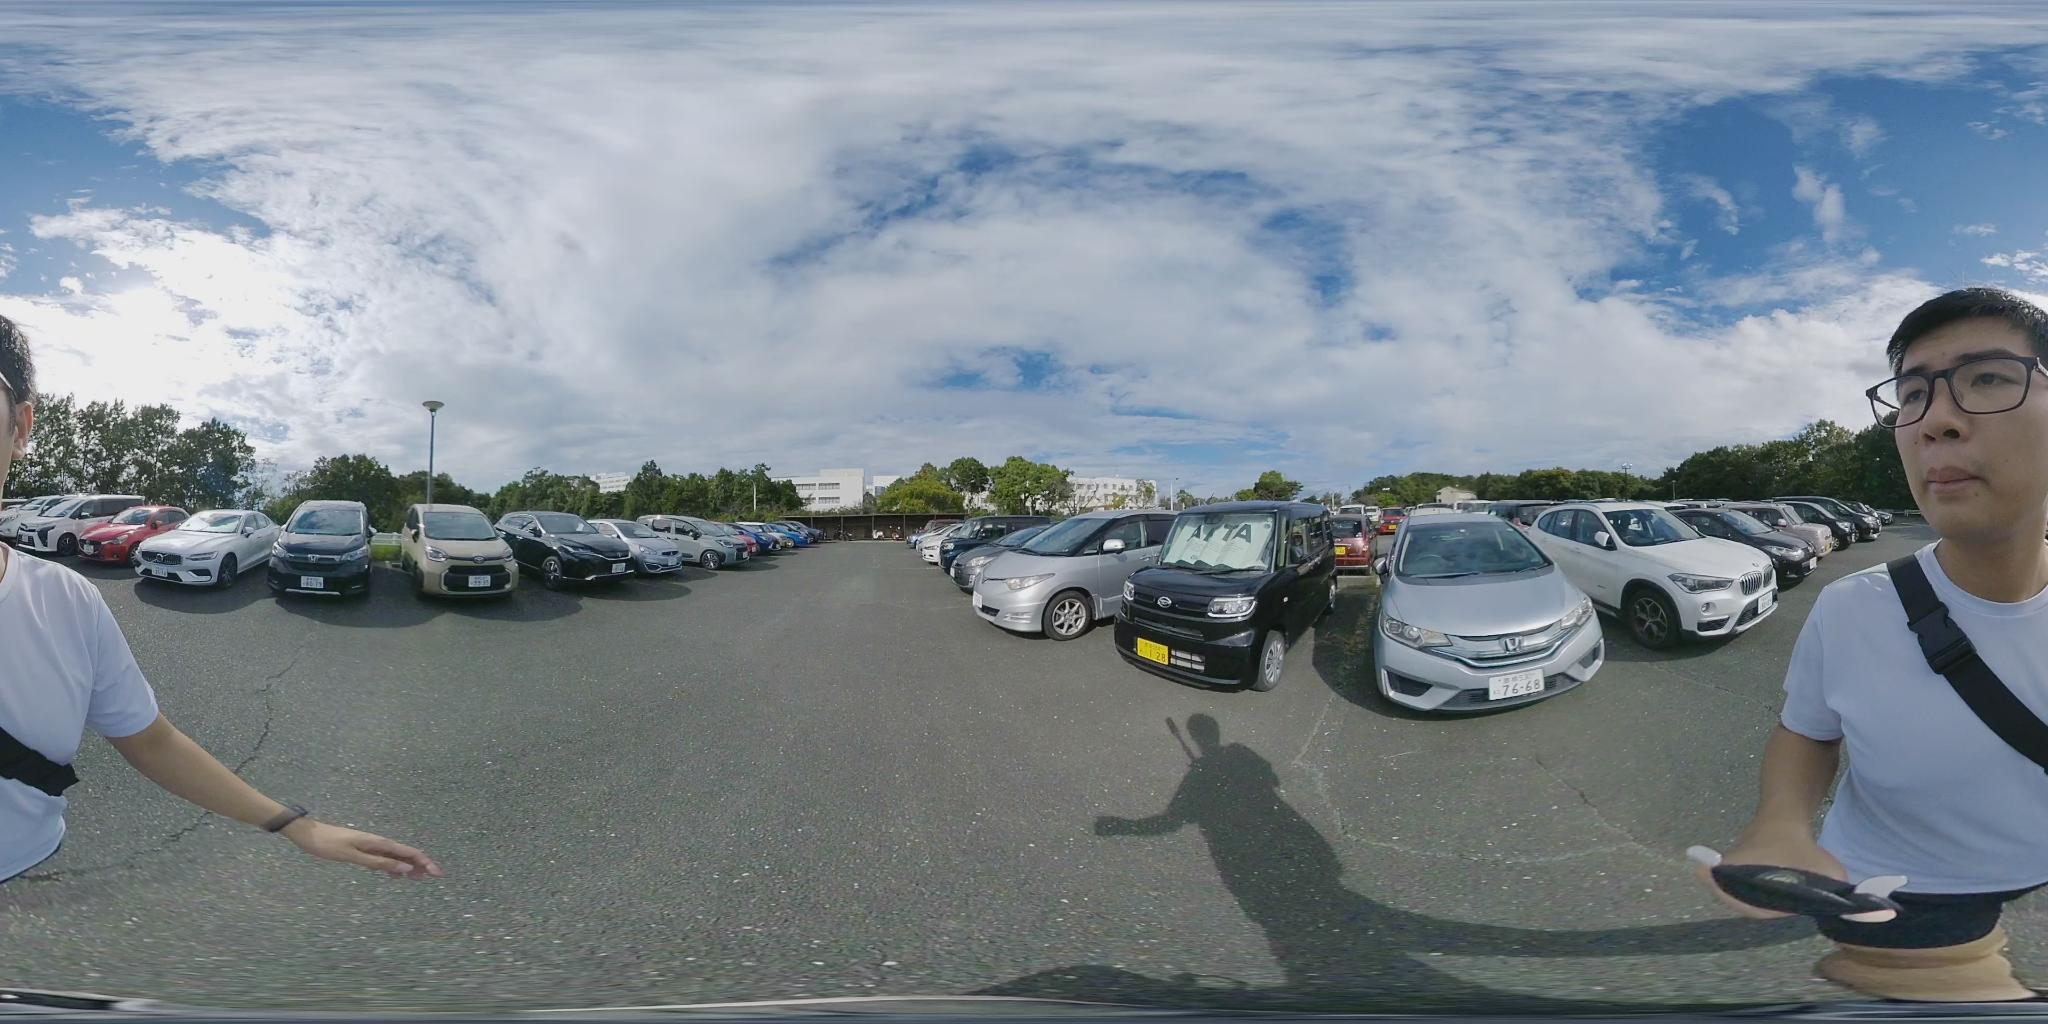car: (1345, 507, 1609, 717), (1114, 500, 1340, 696), (1505, 505, 1789, 654), (957, 513, 1189, 639), (133, 509, 286, 590), (0, 495, 188, 559), (505, 516, 686, 580), (406, 503, 528, 597), (266, 498, 377, 600), (1671, 504, 1829, 572), (917, 519, 1049, 573), (1737, 500, 1863, 558), (643, 516, 758, 568), (1770, 496, 1886, 546), (739, 522, 815, 552)
